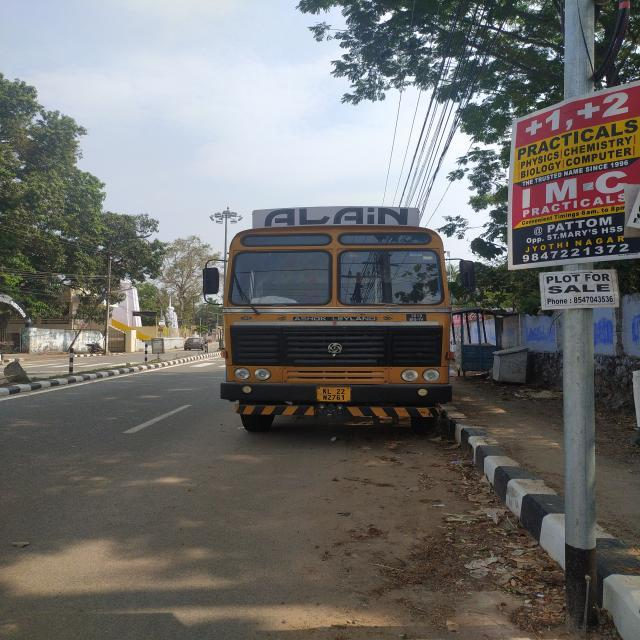Truck: (203, 177, 549, 487)
